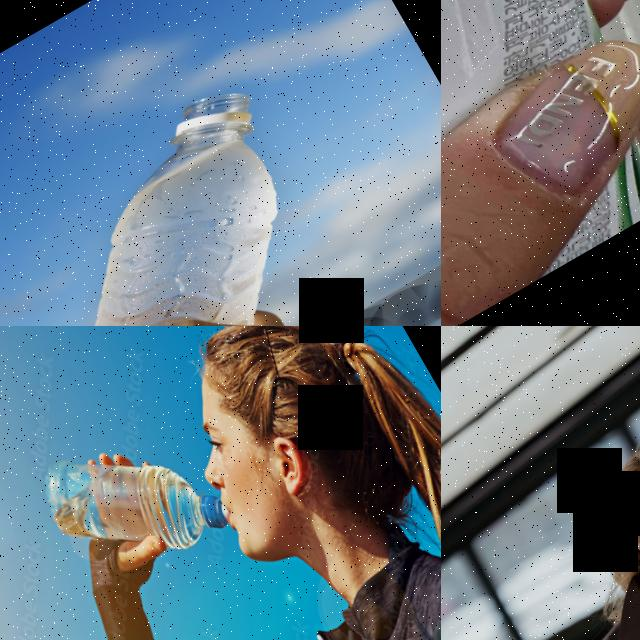bottle: (0, 78, 425, 326), (28, 400, 232, 602)
can: (441, 0, 640, 326)
